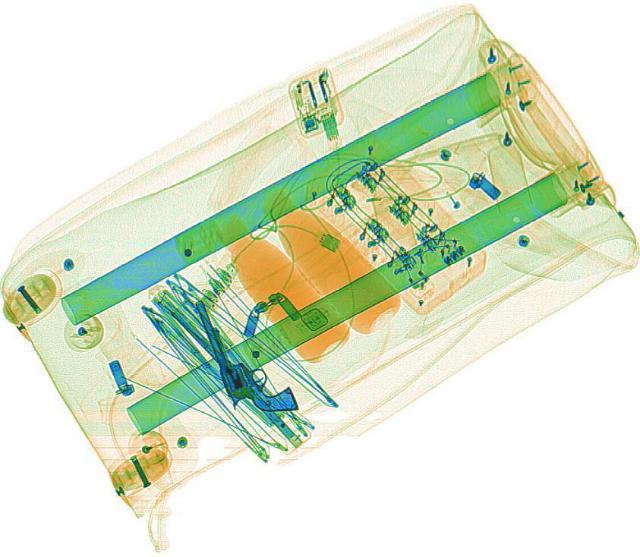Gun: (194, 285, 298, 422)
